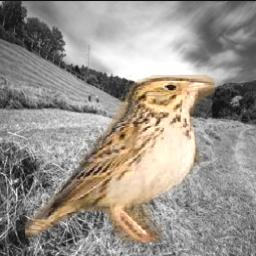Sparrow: (26, 75, 216, 243)
